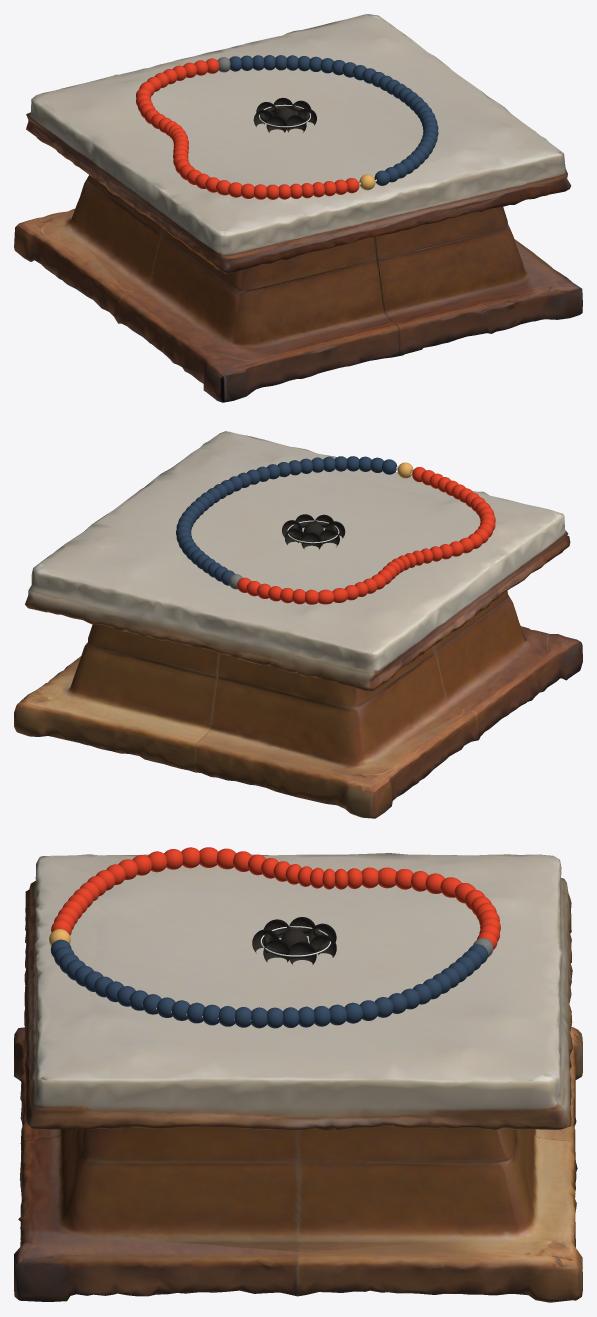
File: benda19.glb
3 views of the same model, one above another, from view 1: azimuth 30°, elevation 25°; view 2: azimuth 150°, elevation 25°; view 3: azimuth 270°, elevation 25° (orthographic). The views are drawn at different scales.
Visible parts, largest first — view 1: Mesh_0, Sphere, Sphere.002; view 2: Mesh_0, Sphere, Sphere.002; view 3: Mesh_0, Sphere, Sphere.002.
Part boxes in pixels (<box>): Mesh_0: <box>14,14,582,402</box>; Sphere: <box>136,55,438,199</box>; Sphere.002: <box>253,97,316,132</box>; Mesh_0: <box>14,431,582,818</box>; Sphere: <box>176,456,495,604</box>; Sphere.002: <box>282,514,345,549</box>; Mesh_0: <box>14,853,582,1302</box>; Sphere: <box>49,847,500,1028</box>; Sphere.002: <box>252,917,336,964</box>.
Bounding box in the file's own units: 2 × 0.9494 × 2.
Materials: 6 (1 with a texture image).
